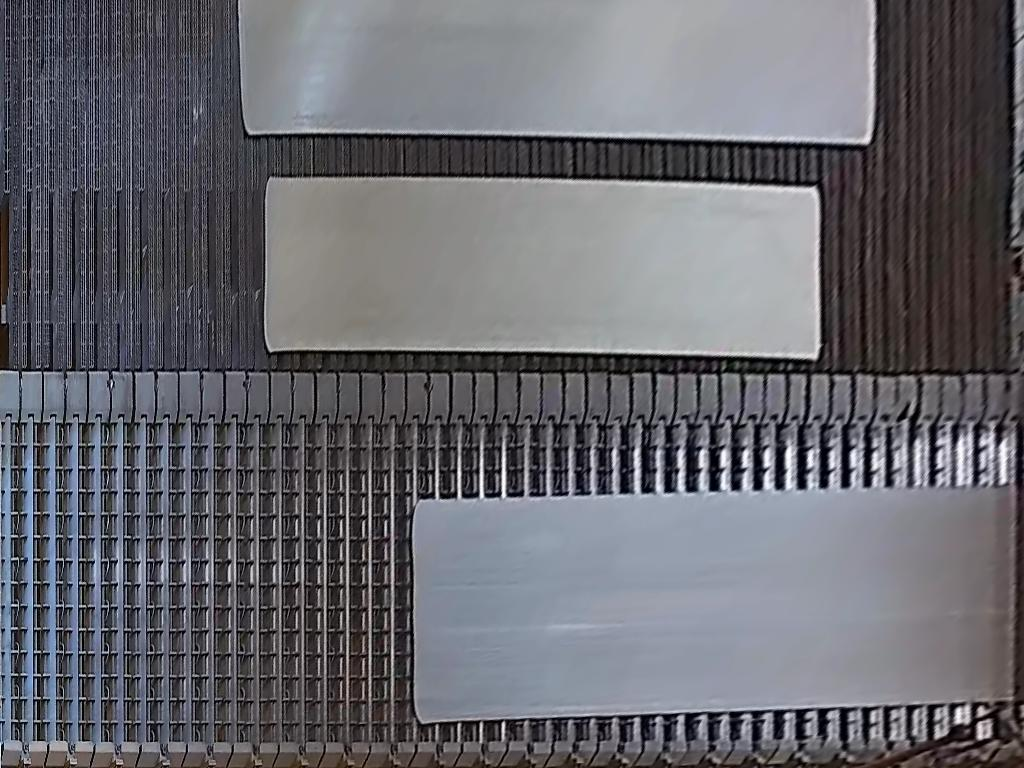steel: (411, 486, 1024, 726), (258, 175, 822, 360), (240, 1, 877, 144)
